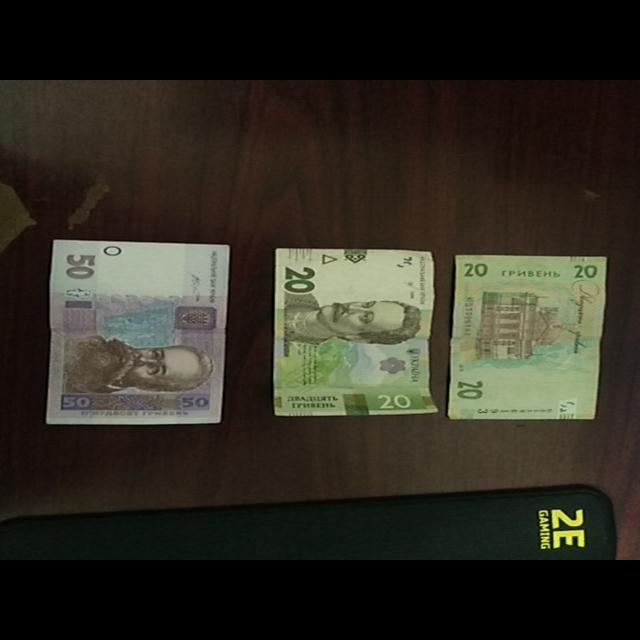20uah: (276, 248, 438, 416), (449, 254, 607, 418)
50uah: (45, 240, 231, 424)
